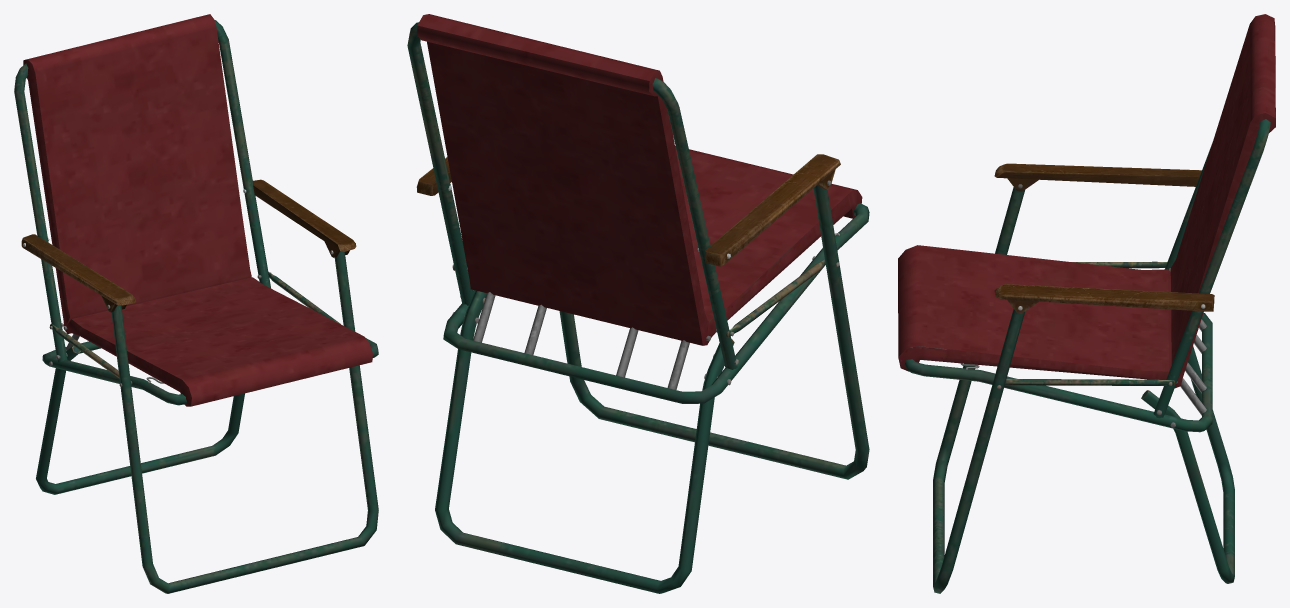
File: p_lawn_chair.glb
3 views of the same model, side by side, from view 1: azimuth 30°, elevation 25°; view 2: azimuth 150°, elevation 25°; view 3: azimuth 270°, elevation 25° (orthographic). The views are drawn at different scales.
Parts seen in each view (by area): view 1: chair; view 2: chair; view 3: chair.
Boxes of the visible parts, box(x1,y1,x2,y2) form: chair: box(14, 14, 378, 593); chair: box(407, 14, 869, 593); chair: box(898, 14, 1275, 593).
Size of the model in its own units: 0.369 by 0.6103 by 0.4378.
Materials: 1 (1 with a texture image).
